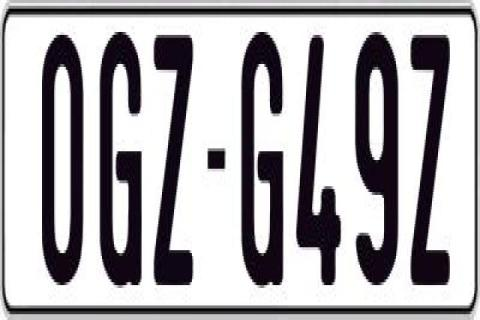0: (296, 29, 348, 297), (356, 29, 402, 294), (41, 32, 83, 300)
G: (240, 29, 288, 299), (98, 32, 140, 300)
Z: (152, 29, 196, 297), (408, 26, 452, 288)
